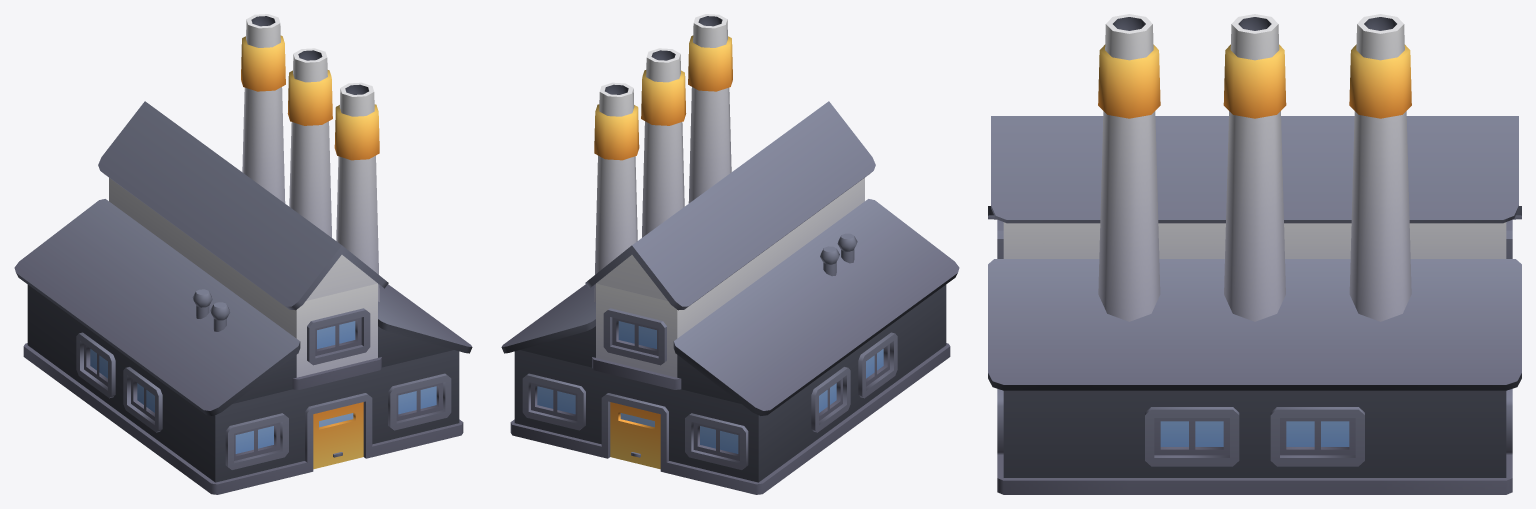
The model's file is kenney-industrial_building-m.glb.
The picture shows the model from 3 angles, left to right: view 1: azimuth 30°, elevation 25°; view 2: azimuth 150°, elevation 25°; view 3: azimuth 270°, elevation 25°; orthographic projection. The views are drawn at different scales.
Parts seen in each view (by area): view 1: building-m; view 2: building-m; view 3: building-m.
Part boxes in pixels (x1=…): building-m: x1=14, y1=14, x2=472, y2=494; building-m: x1=501, y1=14, x2=959, y2=494; building-m: x1=988, y1=14, x2=1521, y2=494.
Bounding box in the file's own units: 1.32 × 1.52 × 1.7.
2 materials, 2 textured.
